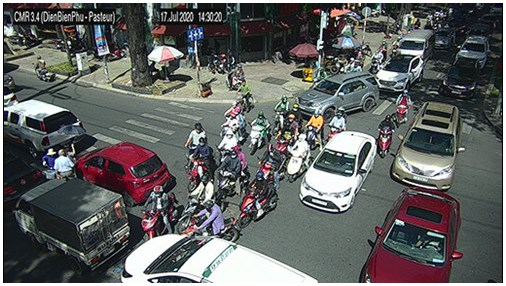di_bo: (55, 151, 75, 179)
xe_dap: (235, 80, 255, 112)
xe_hoi: (359, 186, 462, 284), (390, 101, 464, 191), (75, 142, 174, 206), (299, 131, 377, 212), (3, 100, 85, 156), (293, 73, 379, 115), (438, 58, 481, 98), (377, 55, 423, 90), (455, 36, 490, 68)
xe_khach: (396, 30, 435, 63)
xe_may: (182, 201, 240, 240), (240, 171, 279, 227), (178, 176, 215, 233), (141, 187, 179, 239), (286, 133, 312, 182), (187, 138, 214, 185), (217, 150, 240, 198), (249, 110, 270, 155), (304, 109, 325, 149), (378, 114, 394, 157), (257, 145, 277, 179), (218, 102, 239, 134), (396, 89, 412, 129), (185, 124, 207, 153), (217, 129, 235, 162), (34, 55, 55, 82), (273, 96, 288, 133), (227, 65, 247, 92), (275, 135, 288, 175), (327, 112, 344, 140)
xe_tai: (14, 179, 131, 275)
xe_taxi: (122, 236, 319, 284)
